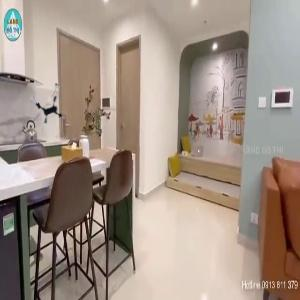drone: (30, 84, 72, 126)
